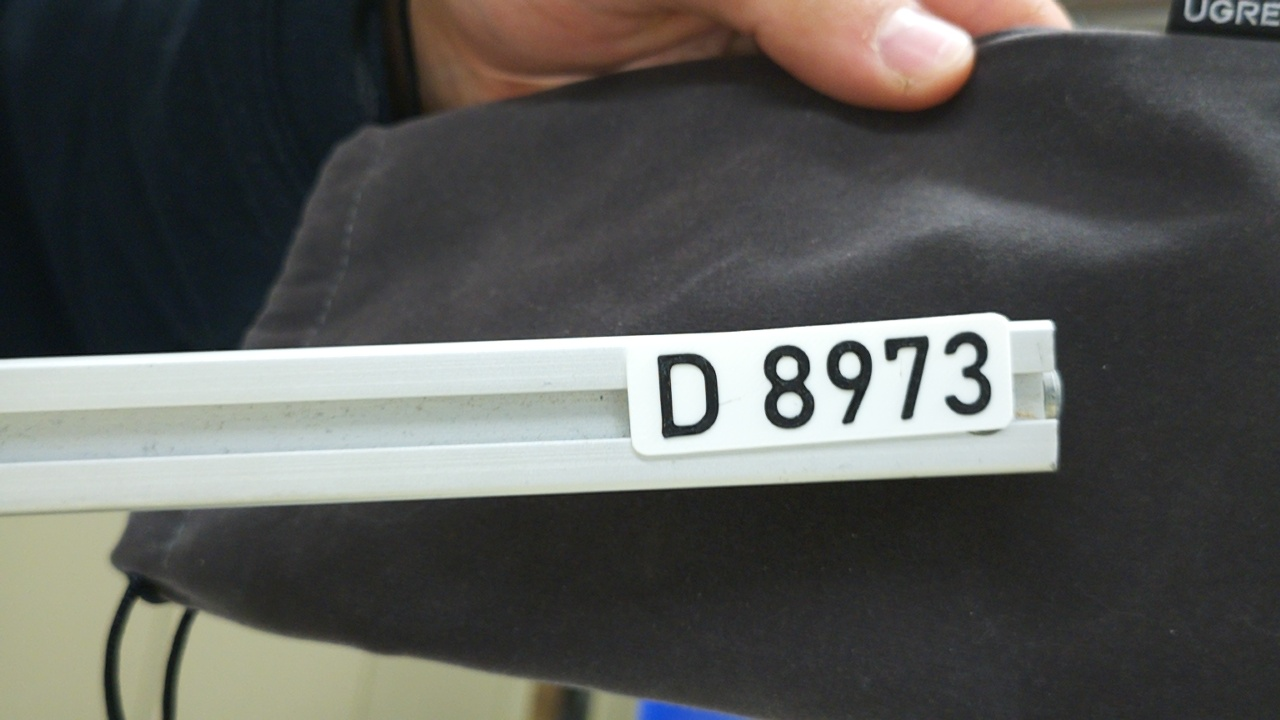license_plate: (622, 310, 1015, 460)
